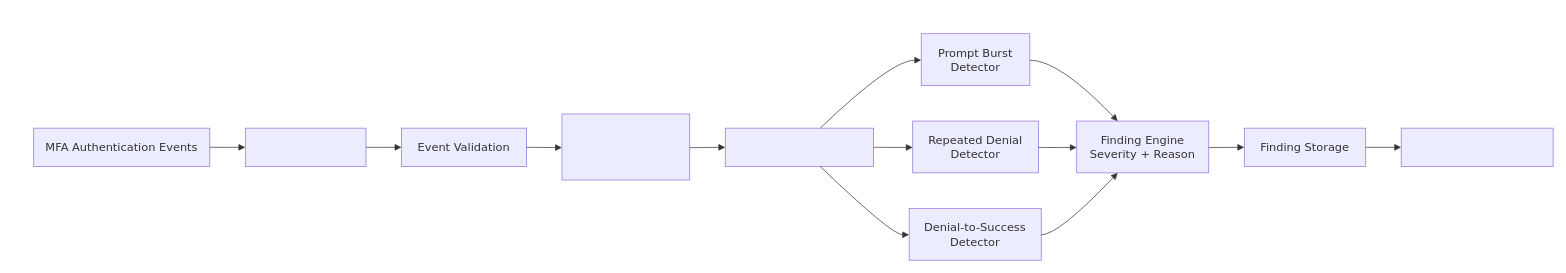
Image size: 1566x273. Some labels were removed from this diagram. Here are the shapes that lost their labels. From the top down, the box of each, then its label:
(245, 127, 366, 166): Event Ingestion
(561, 113, 690, 180): Event Processor Order by Time Group by Worker
(725, 127, 874, 166): Rolling Time Window
(1400, 127, 1553, 166): JSON / CSV / Console
